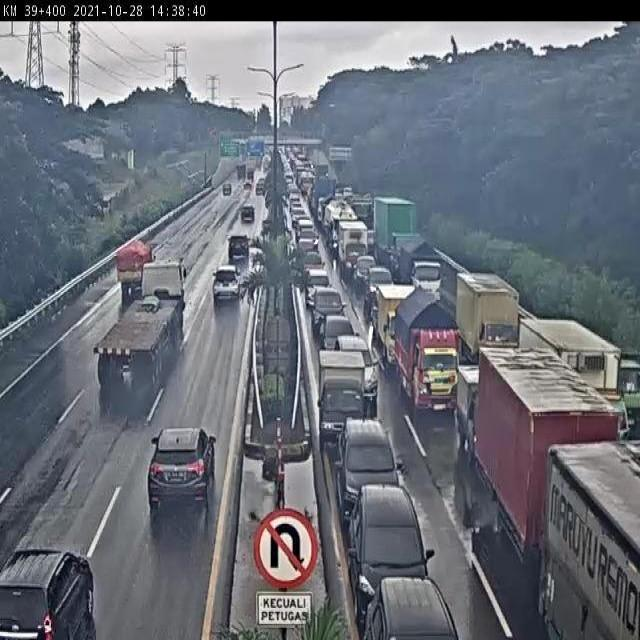big truck: (473, 344, 583, 561), (63, 275, 170, 445), (549, 441, 640, 639)
car: (120, 409, 250, 532), (0, 534, 105, 640), (359, 571, 462, 637), (350, 492, 425, 573), (342, 414, 412, 490), (337, 338, 381, 398), (340, 223, 372, 276), (322, 312, 358, 353), (207, 267, 245, 304), (311, 287, 345, 324), (224, 225, 254, 260), (367, 268, 391, 308), (355, 259, 384, 288), (309, 267, 334, 296), (243, 200, 265, 227), (302, 252, 323, 276)
small truck: (515, 312, 622, 419), (394, 297, 460, 411), (460, 270, 524, 362), (456, 364, 504, 451), (320, 351, 367, 432), (379, 287, 420, 356), (402, 242, 447, 302), (102, 244, 149, 284), (401, 248, 437, 297)
